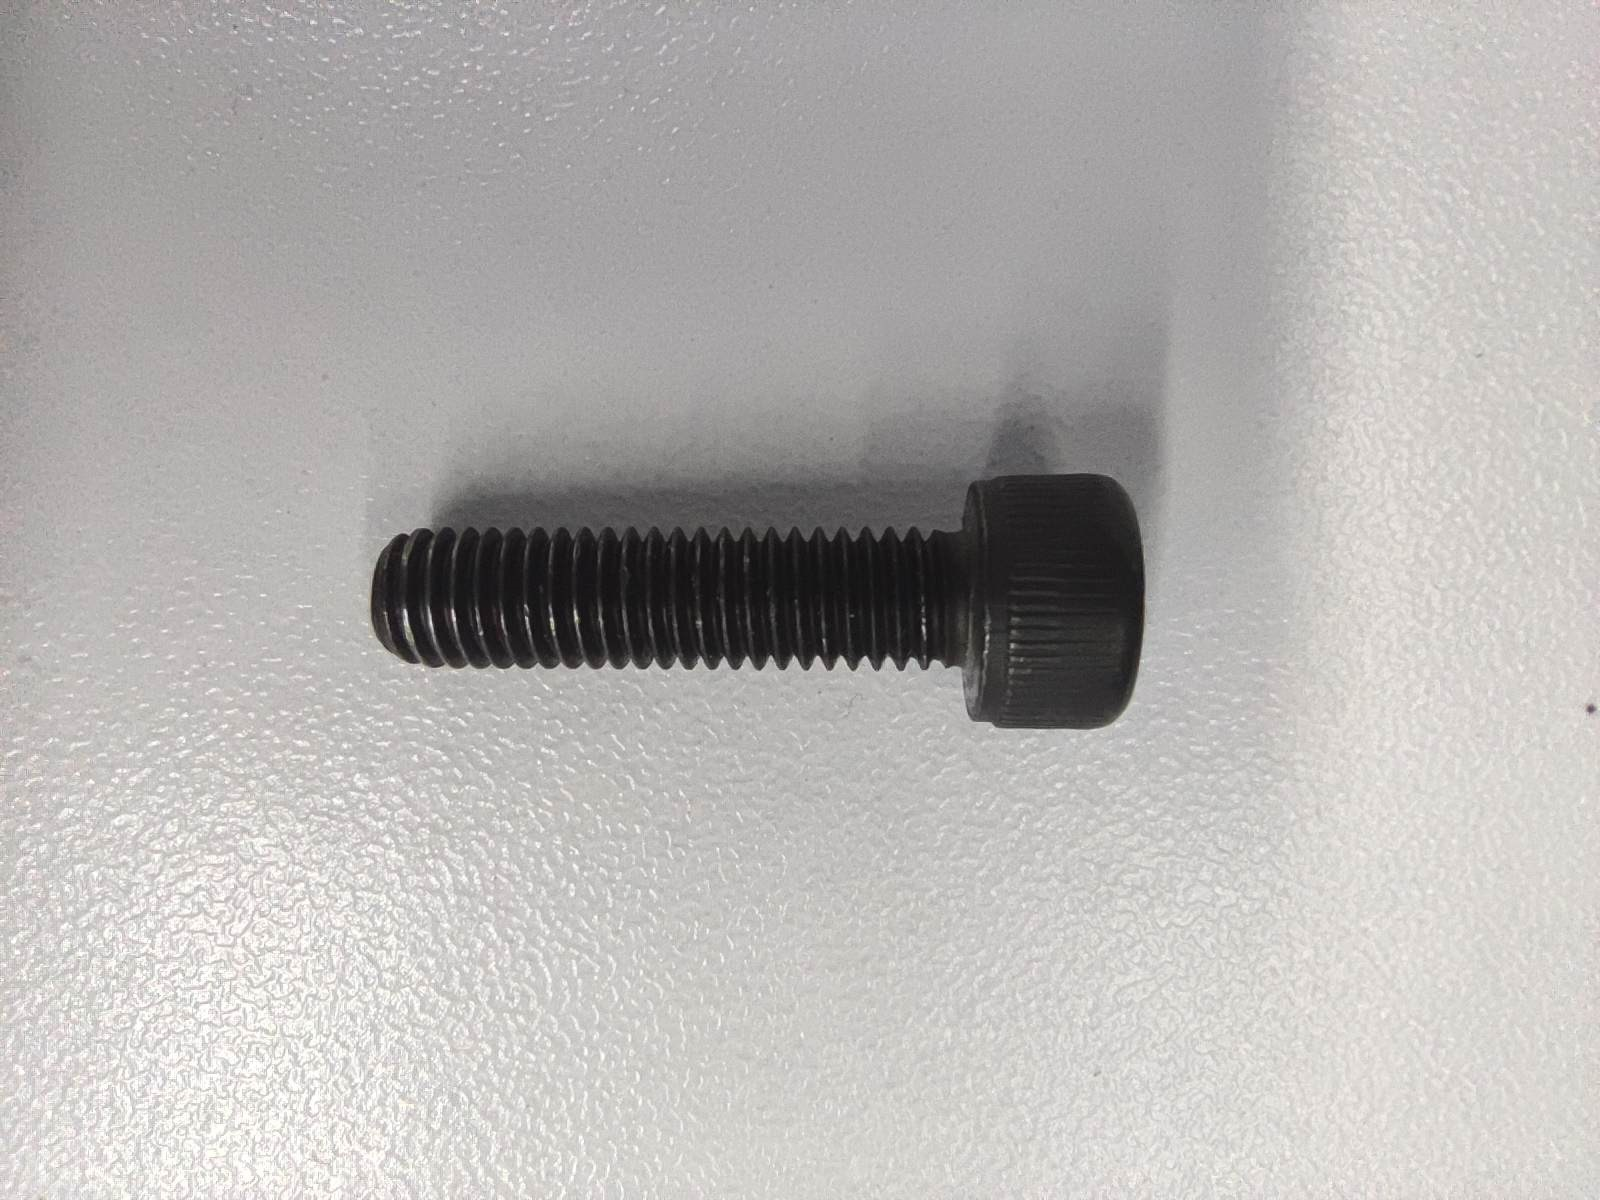螺钉: (369, 471, 1143, 730)
